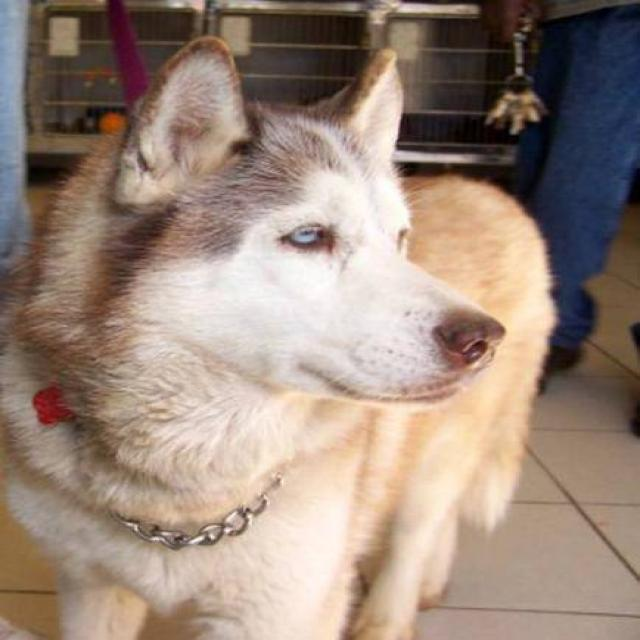dog: (0, 33, 557, 638)
